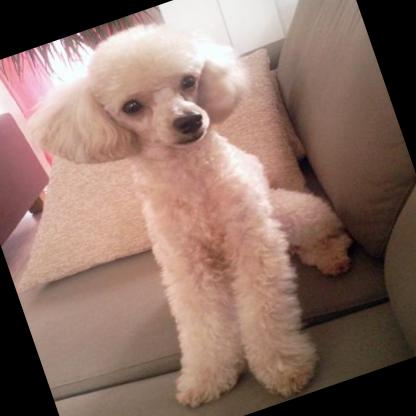toy_poodle: (4, 0, 389, 416)
